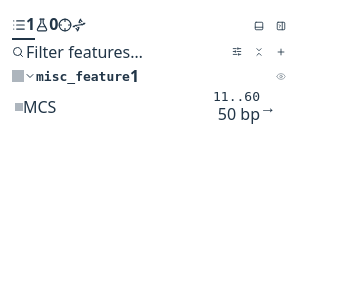
Test: FeatureSidebar hover card and context menu › shows the hover card after a pause on a row
Hover over the option "MCS 11..60 50 bp →" at (40,107), box x1=12 y1=89 x2=292 y2=124
Wait 500 ms
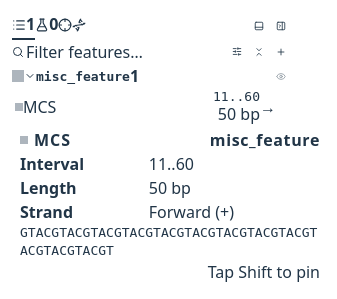
Expected: the element with class "ft-tooltip-name" is shown, x1=20 y1=128 x2=320 y2=152
